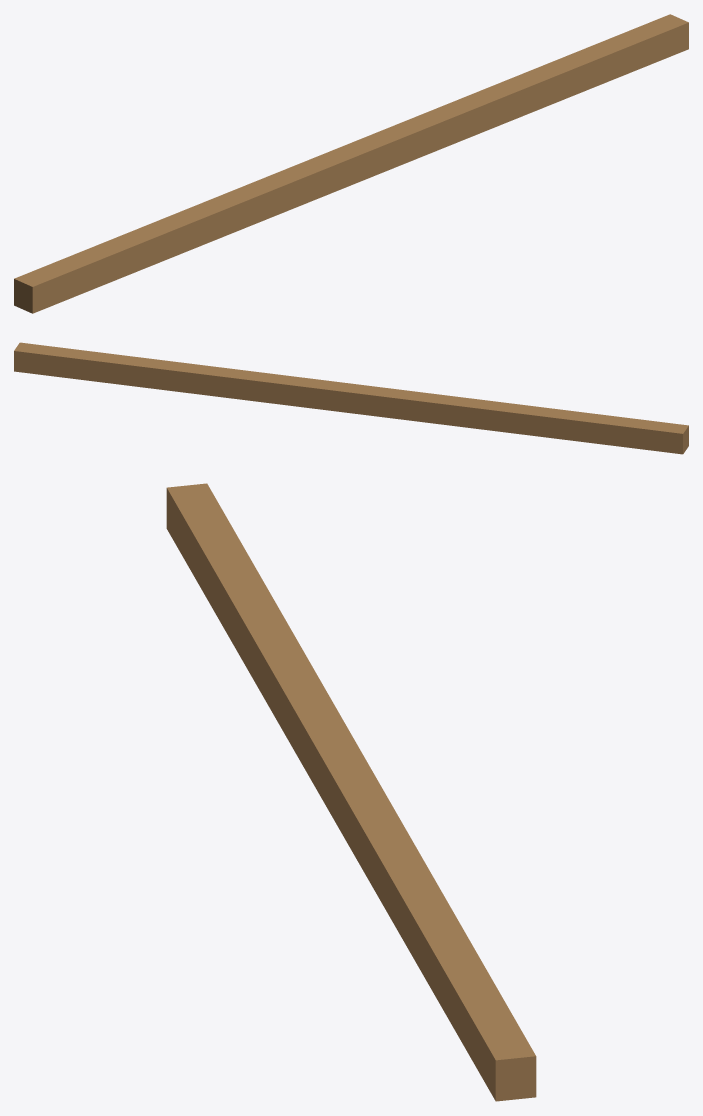
Rendered from cartel_ciudad_top_lev5.glb.
3 views of the same model, one above another, from view 1: azimuth 30°, elevation 25°; view 2: azimuth 150°, elevation 25°; view 3: azimuth 270°, elevation 25° (orthographic). The views are drawn at different scales.
Visible parts, largest first — view 1: cartel_ciudad_top_lev5; view 2: cartel_ciudad_top_lev5; view 3: cartel_ciudad_top_lev5.
Boxes of the visible parts, left/top/right/bottom form: cartel_ciudad_top_lev5: left=14, top=14, right=688, bottom=313; cartel_ciudad_top_lev5: left=14, top=342, right=688, bottom=454; cartel_ciudad_top_lev5: left=166, top=483, right=536, bottom=1101.
Bounding box in the file's own units: 7.05 × 0.2345 × 1.91.
